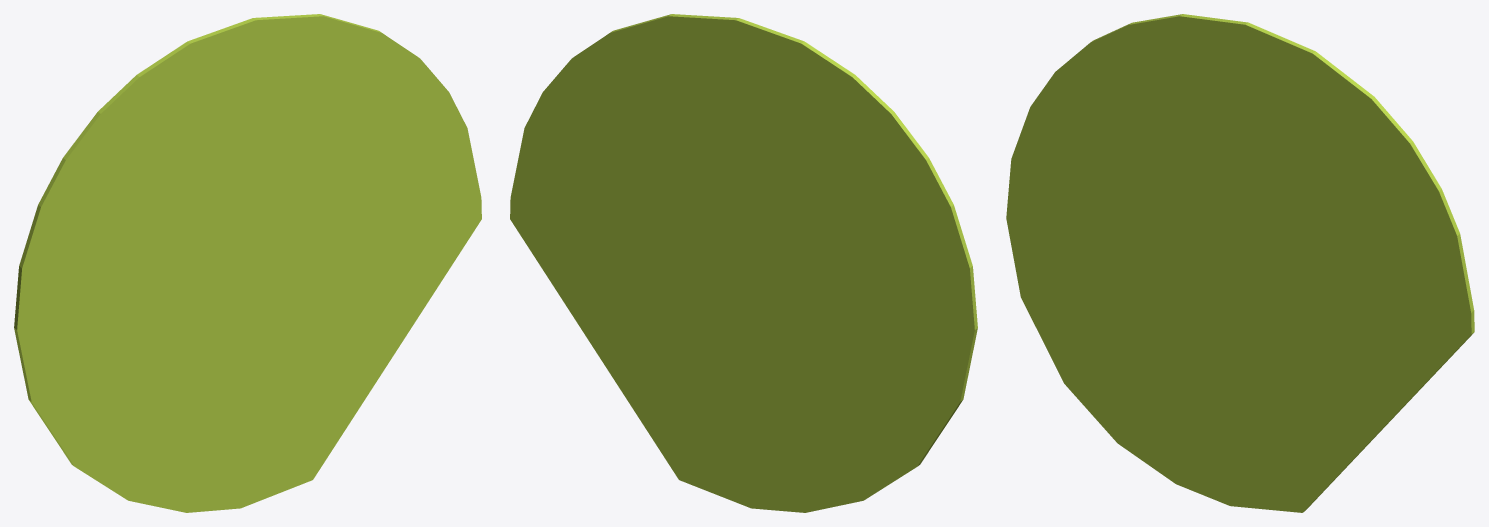
3 views of the same model, side by side, from view 1: azimuth 30°, elevation 25°; view 2: azimuth 150°, elevation 25°; view 3: azimuth 330°, elevation 25° (orthographic).
Visible parts, largest first — view 1: osm-way27917482-F-1; view 2: osm-way27917482-F-1; view 3: osm-way27917482-F-1.
Boxes of the visible parts, x1,y1,x2,y2 form: osm-way27917482-F-1: [14, 14, 481, 512]; osm-way27917482-F-1: [510, 14, 977, 512]; osm-way27917482-F-1: [1006, 14, 1474, 512].
Size of the model in its own units: 13.07 by 13.02 by 0.15.
